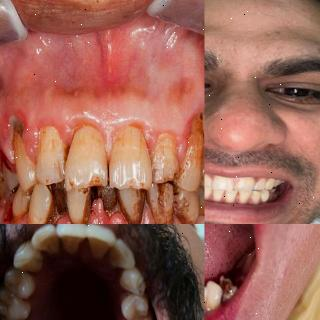Gum Swelling: (0, 88, 204, 165)
calculus: (40, 174, 66, 224), (69, 184, 93, 224), (96, 180, 120, 218), (118, 290, 140, 318), (205, 299, 212, 313)
cavities: (215, 272, 243, 298)
stains: (121, 186, 145, 224), (150, 184, 172, 224), (169, 187, 190, 224), (8, 190, 28, 224), (198, 182, 205, 216), (234, 191, 244, 199), (220, 190, 228, 198)
